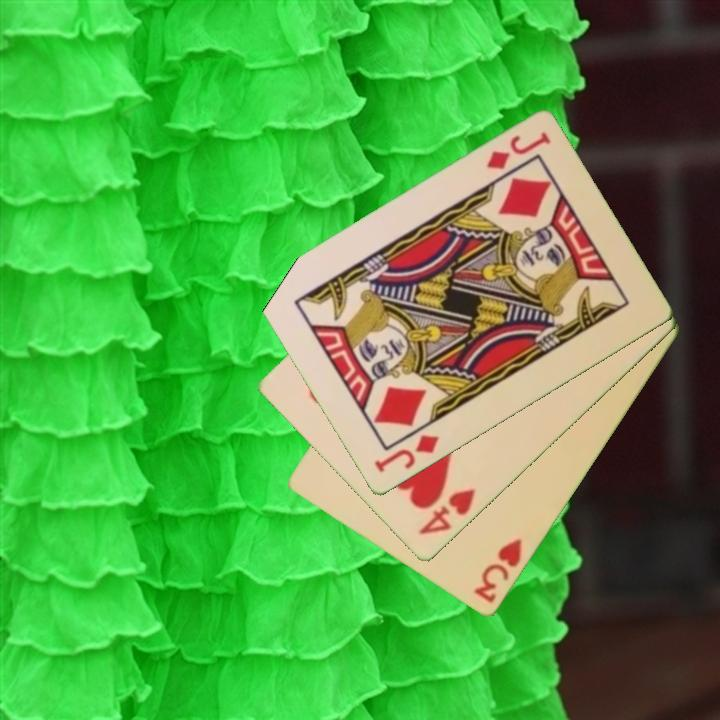3h: (471, 536, 525, 607)
4h: (415, 485, 479, 539)
Jd: (482, 128, 554, 174), (371, 431, 442, 477)
